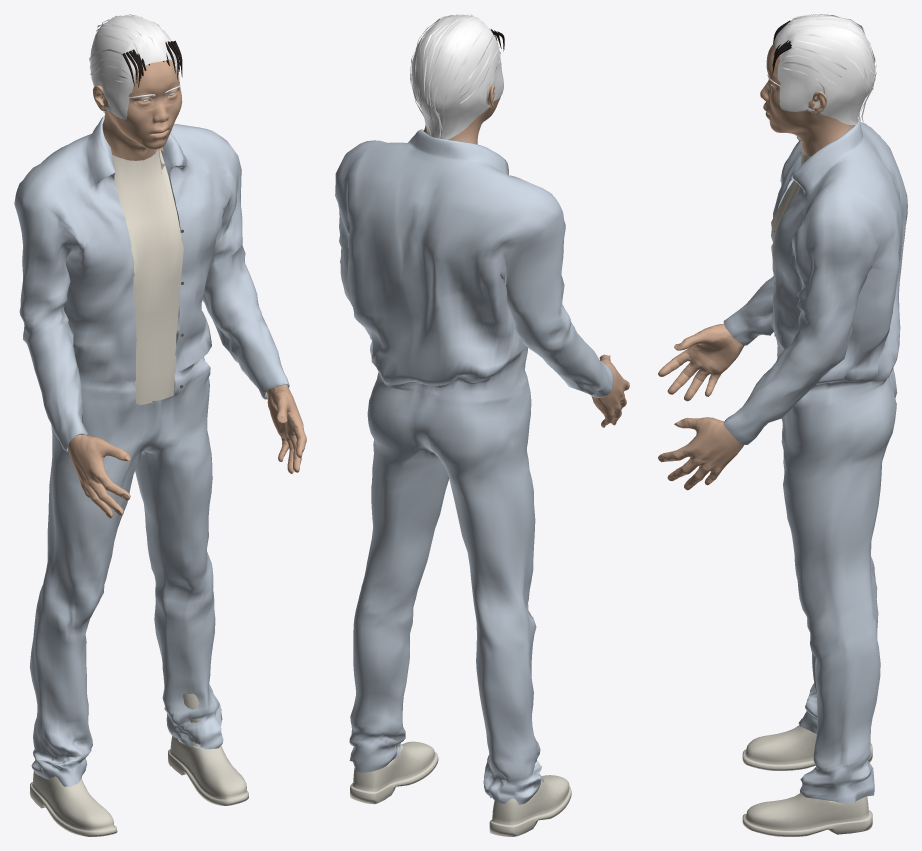
File: young-man.glb
3 renders of one model, left to right at view 1: azimuth 30°, elevation 25°; view 2: azimuth 150°, elevation 25°; view 3: azimuth 270°, elevation 25°, orthographic.
Parts seen in each view (by area): view 1: CC0 fitted clothes/male_casualsuit01/male_casualsuit01, reference fitted ivory crew-neck centre, smooth human anatomy with per-corner UV seams, CC0 fitted clothes/shoes04/shoes04, CC0 fitted hair/short04/short04, reference fitted hair fringe strands; view 2: CC0 fitted clothes/male_casualsuit01/male_casualsuit01, CC0 fitted hair/short04/short04, CC0 fitted clothes/shoes04/shoes04, smooth human anatomy with per-corner UV seams; view 3: CC0 fitted clothes/male_casualsuit01/male_casualsuit01, smooth human anatomy with per-corner UV seams, CC0 fitted hair/short04/short04, CC0 fitted clothes/shoes04/shoes04, reference fitted ivory crew-neck centre.
Part boxes in pixels (left/top/right/bottom): CC0 fitted clothes/male_casualsuit01/male_casualsuit01: left=14, top=115, right=289, bottom=786; reference fitted ivory crew-neck centre: left=112, top=149, right=183, bottom=404; smooth human anatomy with per-corner UV seams: left=67, top=59, right=306, bottom=518; CC0 fitted clothes/shoes04/shoes04: left=29, top=693, right=248, bottom=836; CC0 fitted hair/short04/short04: left=89, top=14, right=182, bottom=119; reference fitted hair fringe strands: left=122, top=40, right=182, bottom=87; CC0 fitted clothes/male_casualsuit01/male_casualsuit01: left=335, top=129, right=613, bottom=804; CC0 fitted hair/short04/short04: left=410, top=14, right=503, bottom=139; CC0 fitted clothes/shoes04/shoes04: left=350, top=741, right=571, bottom=836; smooth human anatomy with per-corner UV seams: left=423, top=85, right=629, bottom=427; CC0 fitted clothes/male_casualsuit01/male_casualsuit01: left=723, top=118, right=907, bottom=804; smooth human anatomy with per-corner UV seams: left=658, top=43, right=853, bottom=490; CC0 fitted hair/short04/short04: left=774, top=14, right=876, bottom=125; CC0 fitted clothes/shoes04/shoes04: left=742, top=725, right=872, bottom=836; reference fitted ivory crew-neck centre: left=771, top=148, right=810, bottom=358.
Bounding box in the file's own units: 0.5539 × 1.8 × 0.5245.
